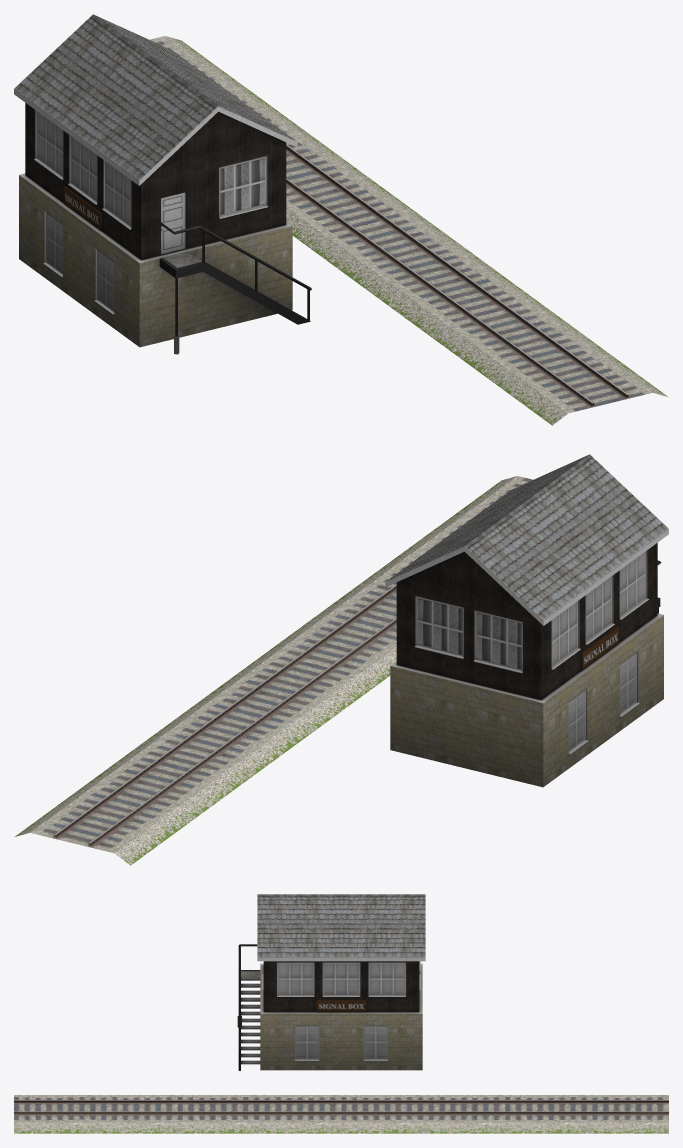
File: SignalBox3.fbx
3 renders of one model, top to bottom at view 1: azimuth 30°, elevation 25°; view 2: azimuth 150°, elevation 25°; view 3: azimuth 270°, elevation 25°, orthographic. The views are drawn at different scales.
Parts seen in each view (by area): view 1: U3DMesh; view 2: U3DMesh; view 3: U3DMesh.
Part boxes in pixels (box(x1,y1,x2,y2)): U3DMesh: box(14, 14, 667, 425); U3DMesh: box(15, 454, 668, 865); U3DMesh: box(14, 894, 668, 1133).
Size of the model in its own units: 13.21 by 8.13 by 32.
